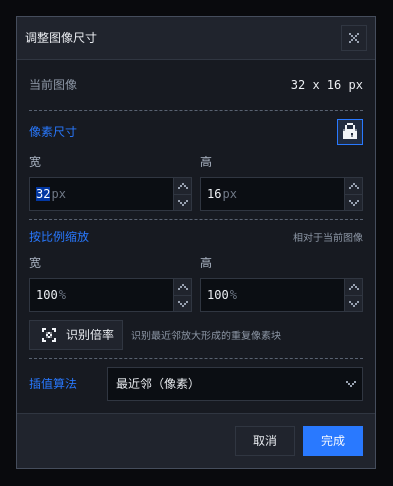
Scenario: ImageResizeDialog › applies the detected scale to pixel and percentage dimensions
Click the button "识别倍率" at x=76, y=335, box [29,320,123,350]
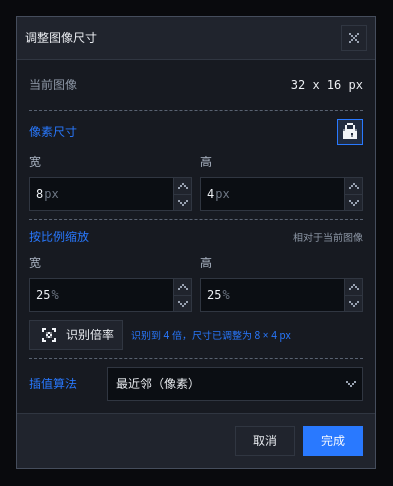
Expected: the text "识别到 4 倍，尺寸已调整为 8 × 4 px" is shown, [131,328,291,342]
Expected: the number field named "画布宽度" holds "8", [30,178,173,210]
Expected: the number field named "画布高度" holds "4", [201,178,344,210]
